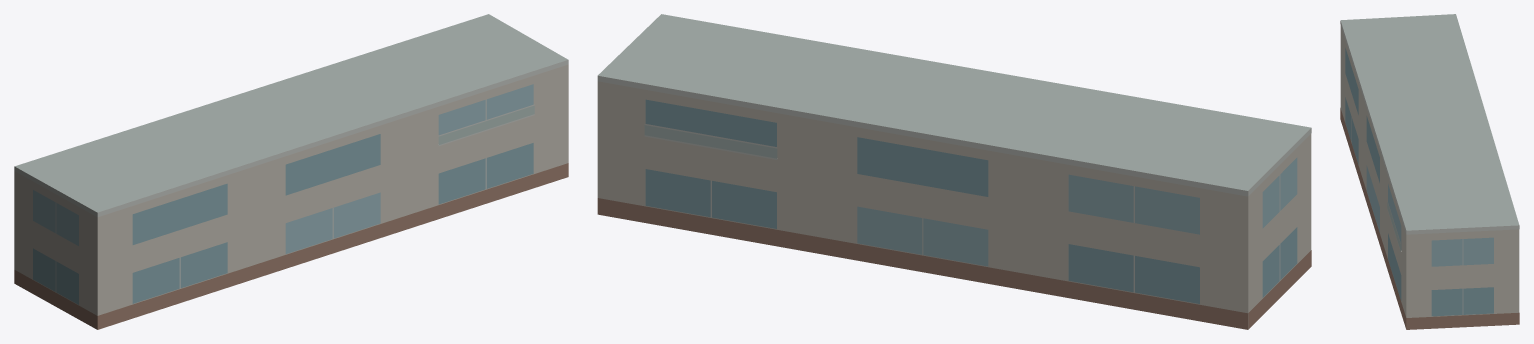
File: survey-upis-32561221.glb
3 renders of one model, left to right at view 1: azimuth 30°, elevation 25°; view 2: azimuth 150°, elevation 25°; view 3: azimuth 270°, elevation 25°, orthographic. The views are drawn at different scales.
Parts seen in each view (by area): view 1: survey-upis-32561221.tmp; view 2: survey-upis-32561221.tmp; view 3: survey-upis-32561221.tmp.
Boxes of the visible parts, x1,y1,x2,y2 form: survey-upis-32561221.tmp: [14, 14, 568, 329]; survey-upis-32561221.tmp: [597, 14, 1311, 329]; survey-upis-32561221.tmp: [1340, 14, 1519, 329].
Bounding box in the file's own units: 28.59 × 6.1 × 9.99.
